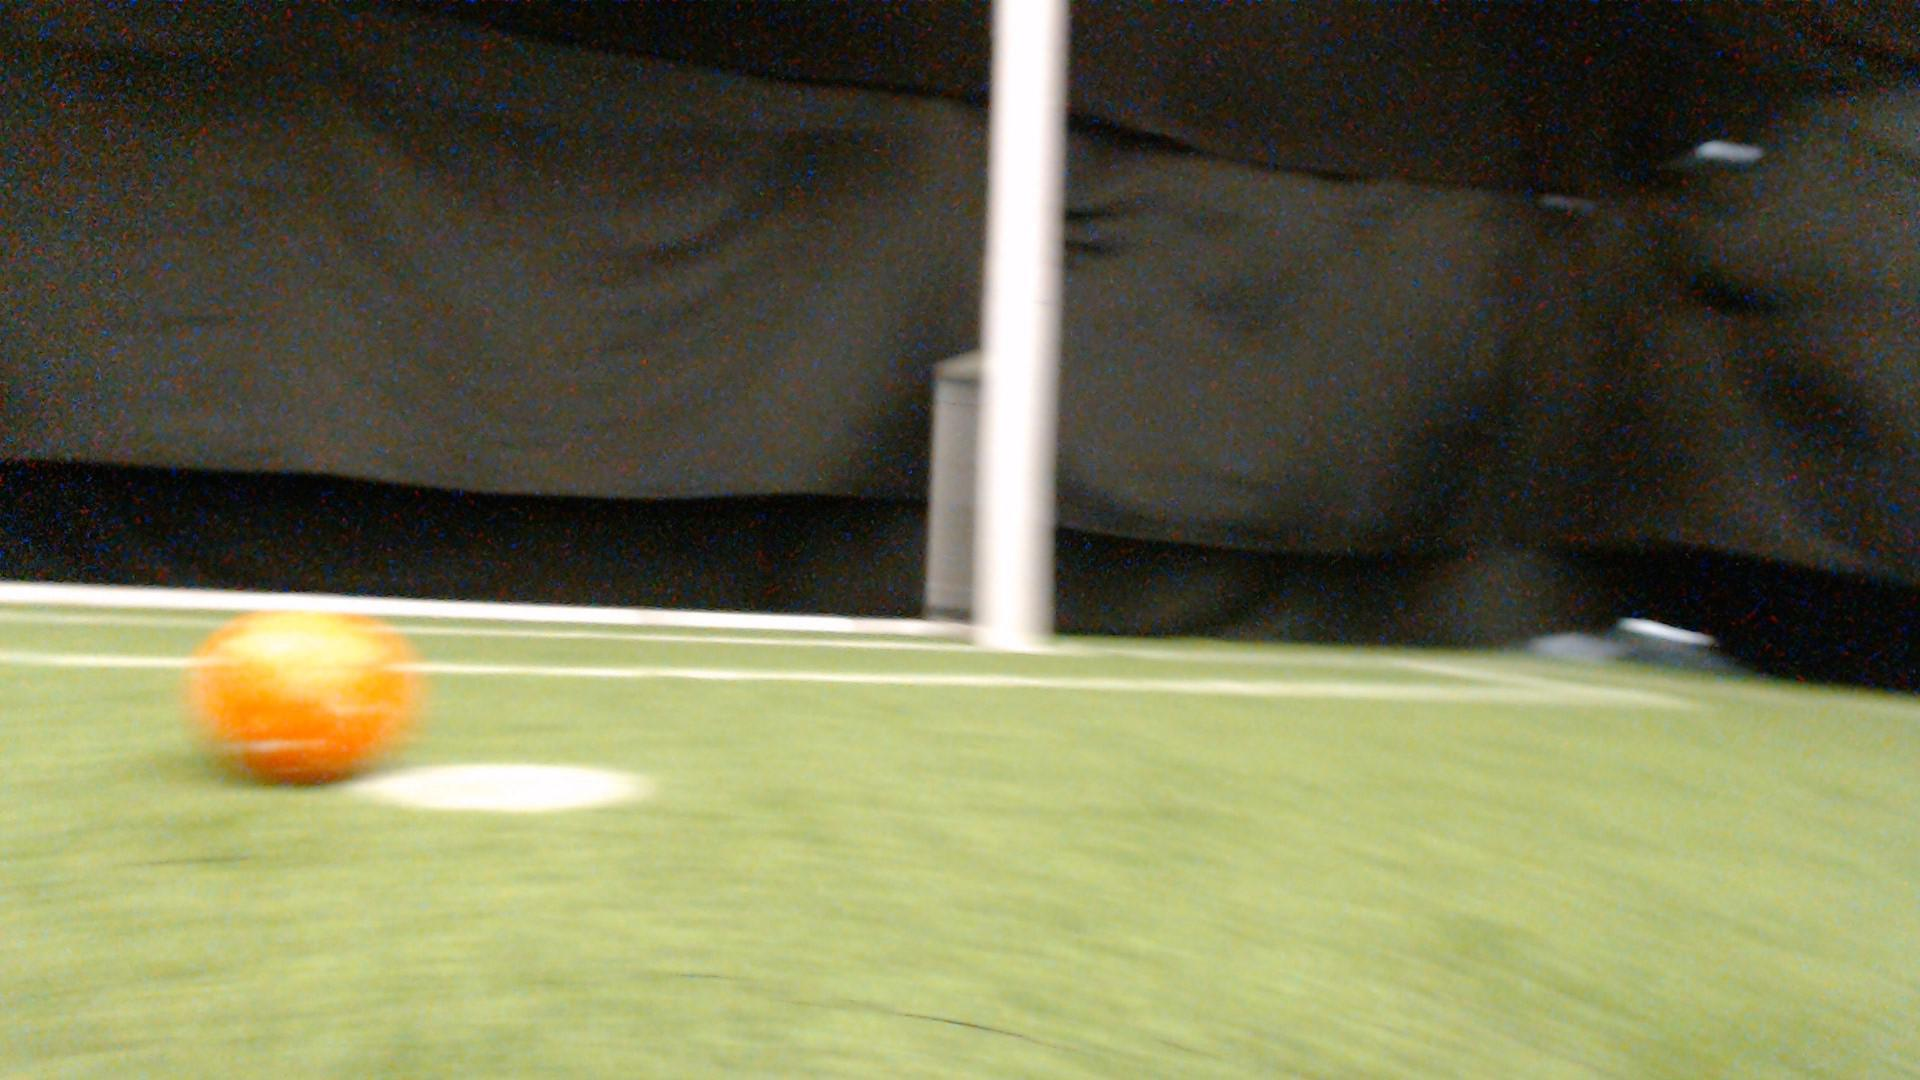bola: (182, 605, 427, 790)
